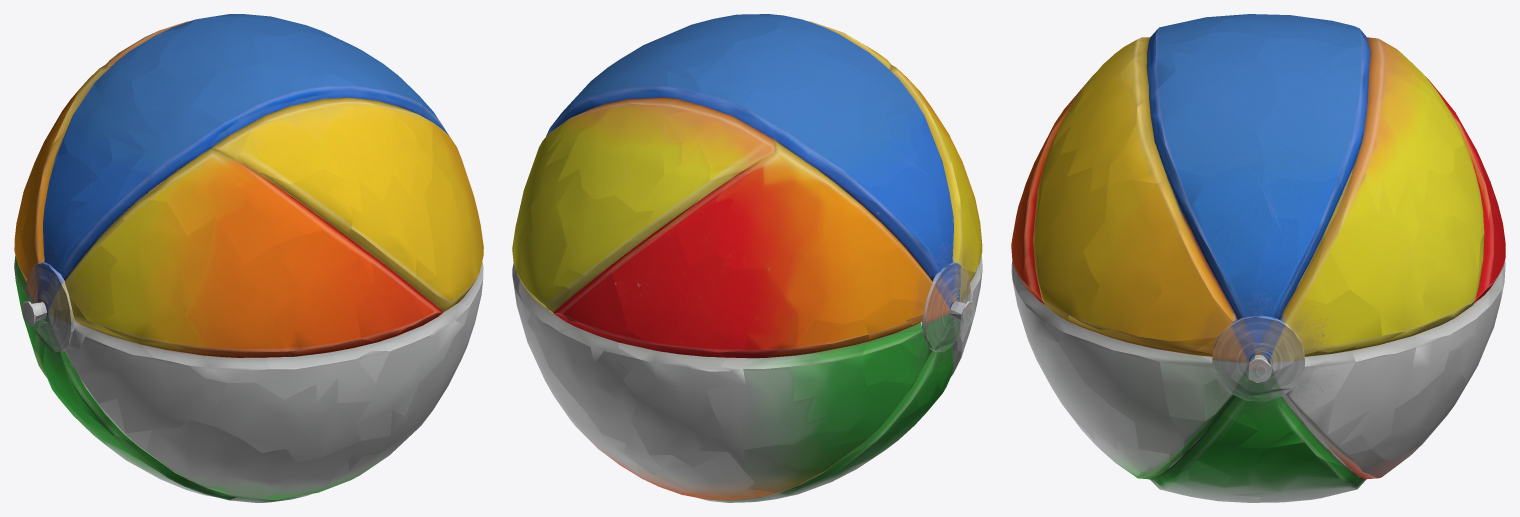
Rendered from pallone_spiaggia.glb.
3 views of the same model, side by side, from view 1: azimuth 30°, elevation 25°; view 2: azimuth 150°, elevation 25°; view 3: azimuth 270°, elevation 25° (orthographic). The views are drawn at different scales.
Visible parts, largest first — view 1: Mesh_0; view 2: Mesh_0; view 3: Mesh_0.
Boxes of the visible parts, x1,y1,x2,y2 form: Mesh_0: (14, 14, 483, 502); Mesh_0: (512, 14, 982, 502); Mesh_0: (1011, 14, 1505, 502).
Bounding box in the file's own units: 1.9 × 1.79 × 1.78.
Materials: 1 (1 with a texture image).
